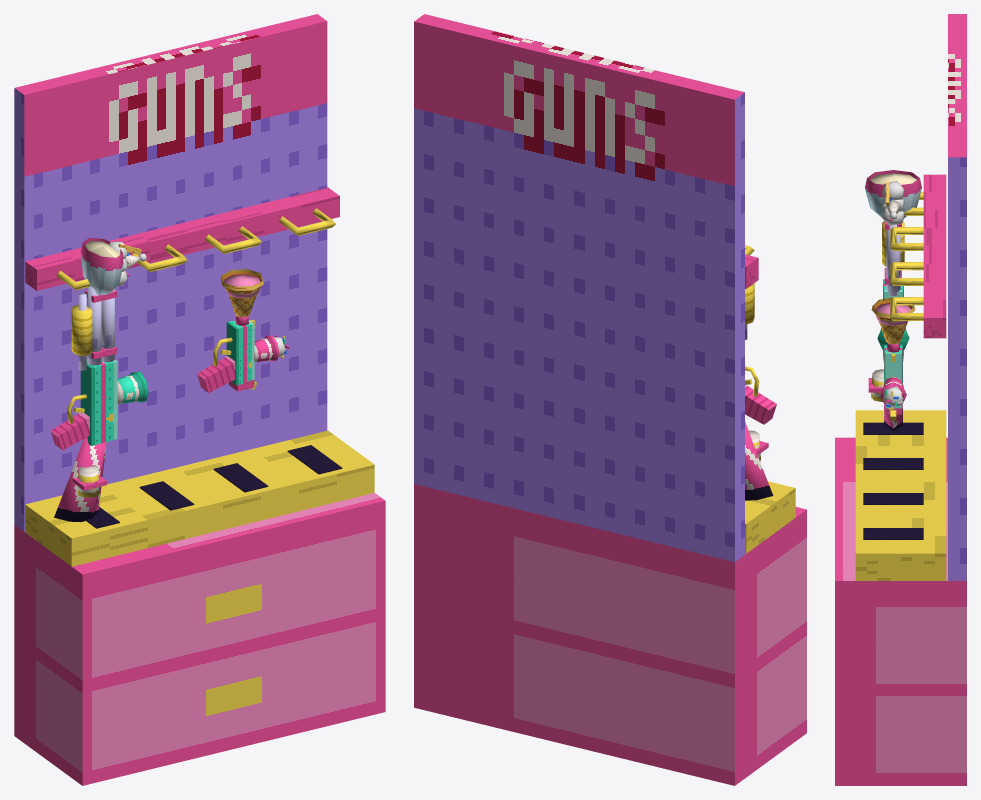
Rendered from Gun Rack.fbx.
3 views of the same model, side by side, from view 1: azimuth 30°, elevation 25°; view 2: azimuth 150°, elevation 25°; view 3: azimuth 270°, elevation 25° (orthographic). The views are drawn at different scales.
Parts seen in each view (by area): view 1: Gun Rack rack board, Gun Rack rack cabinet, Gun Rack rack cradle, Gun Rack rack clip bar, Gun Rack receiver, Gun Rack stock, Gun Rack sundae boat, Gun Rack body, Gun Rack pump, Gun Rack grip, Gun Rack grip.001, Gun Rack rack notch 3 (+6 smaller); view 2: Gun Rack rack board, Gun Rack rack cabinet, Gun Rack rack cradle, Gun Rack stock, Gun Rack grip; view 3: Gun Rack rack cabinet, Gun Rack rack cradle, Gun Rack rack board, Gun Rack rack clip bar, Gun Rack sundae boat, Gun Rack rack notch 2, Gun Rack rack notch 3, Gun Rack rack notch 4, Gun Rack rack notch 1, Gun Rack rack clip 3.001, Gun Rack rack clip 4.001, Gun Rack barrel 0.045 (+10 smaller).
Part boxes in pixels (x1,y1,x2,y2): Gun Rack rack board: (14, 14, 327, 531); Gun Rack rack cabinet: (14, 493, 385, 785); Gun Rack rack cradle: (25, 430, 374, 566); Gun Rack rack clip bar: (25, 187, 339, 290); Gun Rack receiver: (80, 359, 117, 445); Gun Rack stock: (54, 437, 106, 522); Gun Rack sundae boat: (81, 238, 123, 295); Gun Rack body: (226, 320, 254, 385); Gun Rack pump: (71, 305, 92, 355); Gun Rack grip: (50, 412, 89, 450); Gun Rack grip.001: (197, 356, 235, 392); Gun Rack rack notch 3: (213, 463, 268, 492); Gun Rack rack board: (414, 14, 744, 561); Gun Rack rack cabinet: (414, 484, 806, 785); Gun Rack rack cradle: (745, 481, 795, 553); Gun Rack stock: (745, 421, 773, 500); Gun Rack grip: (745, 385, 776, 424); Gun Rack rack cabinet: (835, 437, 966, 785); Gun Rack rack cradle: (855, 410, 946, 580); Gun Rack rack board: (948, 14, 966, 580); Gun Rack rack clip bar: (923, 174, 946, 338); Gun Rack sundae boat: (865, 170, 921, 221); Gun Rack rack notch 2: (863, 458, 923, 469); Gun Rack rack notch 3: (863, 493, 923, 504); Gun Rack rack notch 4: (863, 528, 923, 539); Gun Rack rack notch 1: (863, 422, 923, 434); Gun Rack rack clip 3.001: (890, 262, 923, 285); Gun Rack rack clip 4.001: (890, 297, 923, 320); Gun Rack barrel 0.045: (886, 224, 900, 295).
Bounding box in the file's own units: 0.9 × 1.84 × 0.35.
34 materials, 30 textured.
